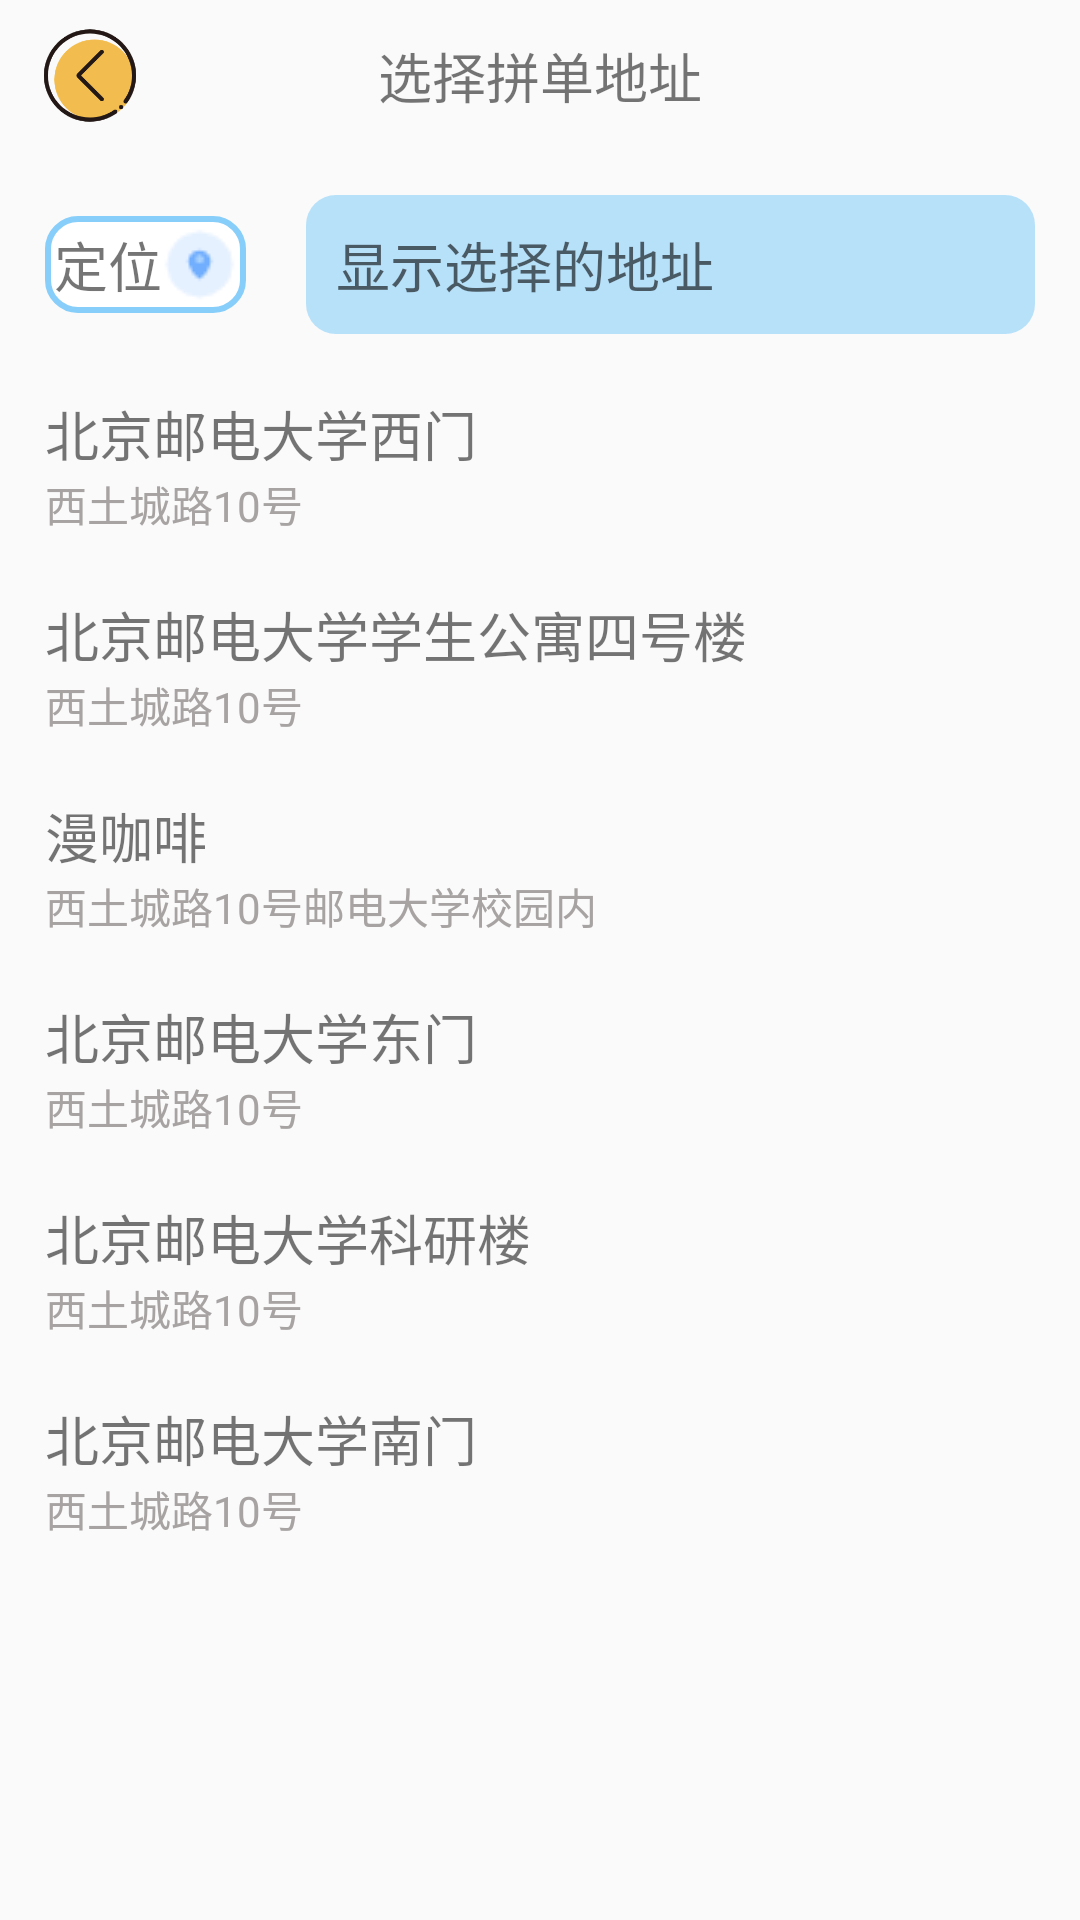

Icon click points for this 1080w x 1920h phone screenshot, format [x,y]:
fanhui: [90,75]
